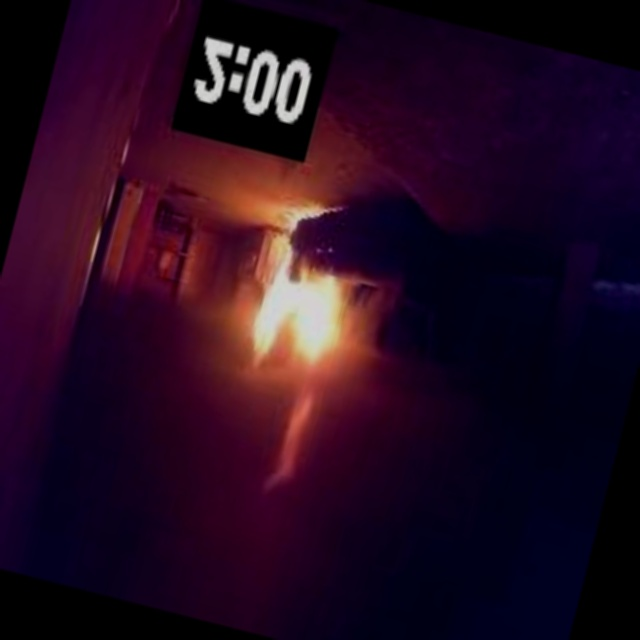fire: (192, 184, 404, 508)
